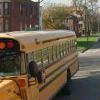Bus: (3, 21, 85, 100)
